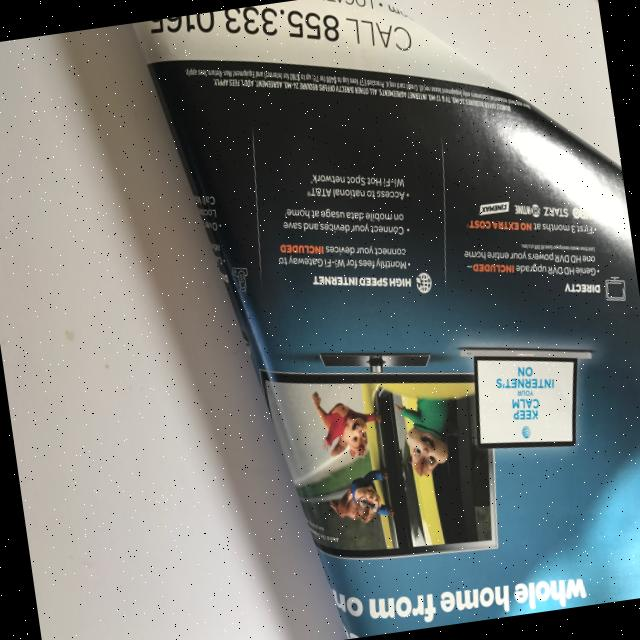paper: (129, 0, 640, 640)
